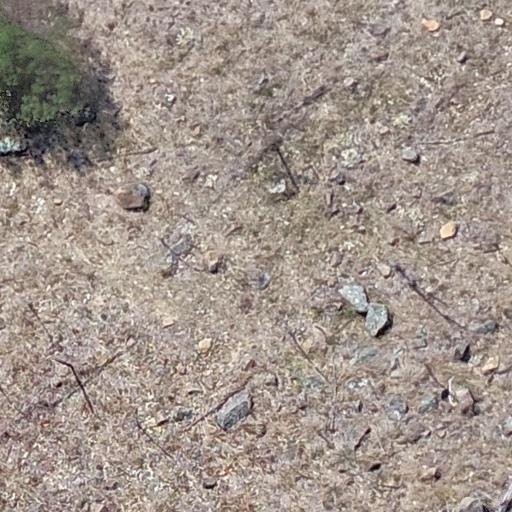stone: (221, 393, 255, 428), (364, 300, 390, 336), (339, 285, 369, 314), (398, 416, 431, 442), (454, 494, 500, 512), (117, 184, 150, 209), (388, 219, 418, 243), (245, 267, 271, 291), (350, 346, 380, 366), (160, 407, 192, 425), (466, 318, 496, 336), (385, 396, 409, 418), (456, 389, 474, 418), (366, 22, 392, 42), (309, 325, 329, 349), (441, 219, 460, 242), (432, 189, 457, 206), (418, 395, 439, 414), (453, 339, 471, 360), (418, 466, 440, 483), (142, 415, 165, 431), (181, 166, 201, 184), (481, 356, 500, 374), (374, 260, 392, 278), (250, 10, 268, 28), (411, 334, 429, 350), (379, 474, 399, 488), (300, 337, 317, 353), (330, 250, 344, 269), (224, 224, 243, 238), (406, 150, 423, 165), (241, 355, 256, 372), (328, 171, 346, 185), (416, 231, 434, 245), (162, 92, 177, 108), (184, 387, 204, 399), (344, 74, 357, 92), (197, 339, 212, 354), (256, 72, 270, 88), (372, 51, 390, 63), (426, 17, 440, 32), (161, 316, 176, 330), (264, 373, 278, 387), (202, 477, 218, 489), (207, 260, 221, 273), (190, 123, 202, 138), (480, 7, 492, 20), (125, 336, 137, 349), (175, 363, 188, 375), (367, 462, 382, 472), (385, 202, 397, 214), (378, 124, 390, 136), (104, 482, 119, 491), (457, 51, 468, 63), (496, 16, 508, 26), (387, 236, 399, 246), (53, 197, 63, 206)
